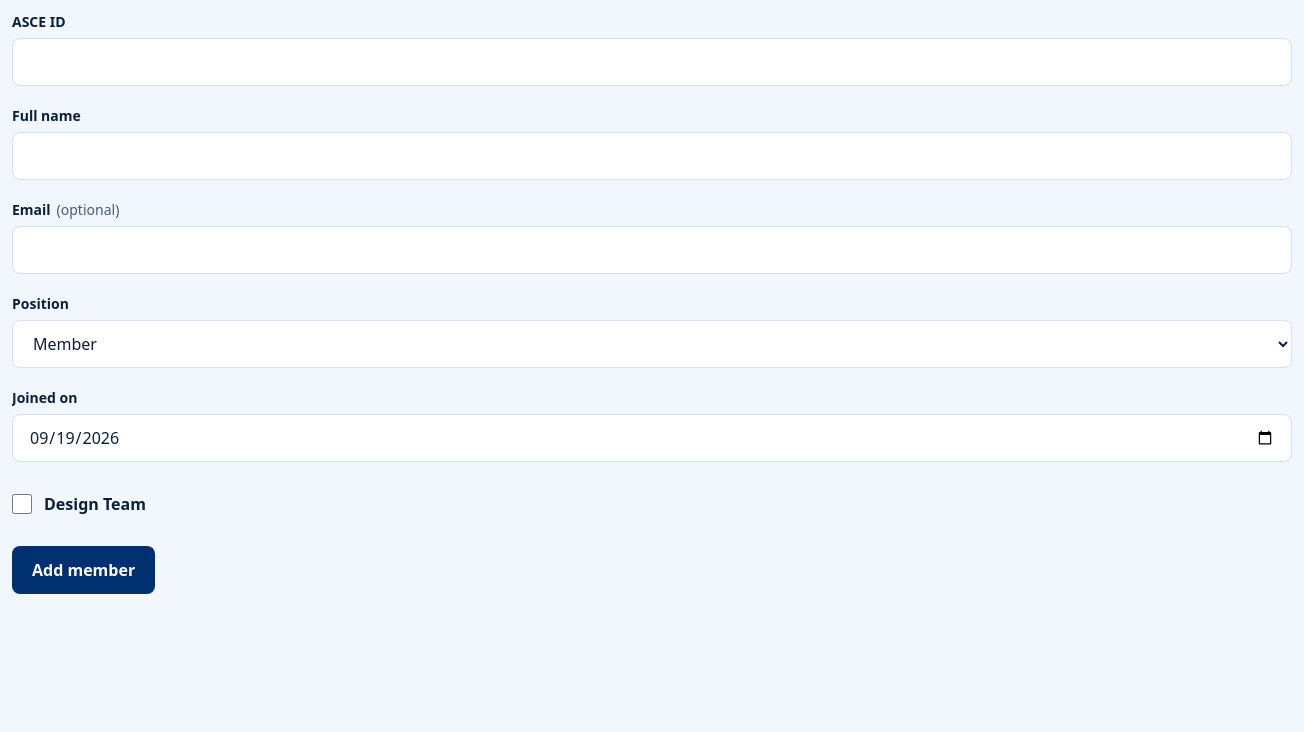
Scenario: MemberForm › un alta fallida NO avisa de creación (se queda en el formulario con el error)
Click the button "Add member" at (84, 570), box [12,546,155,594]
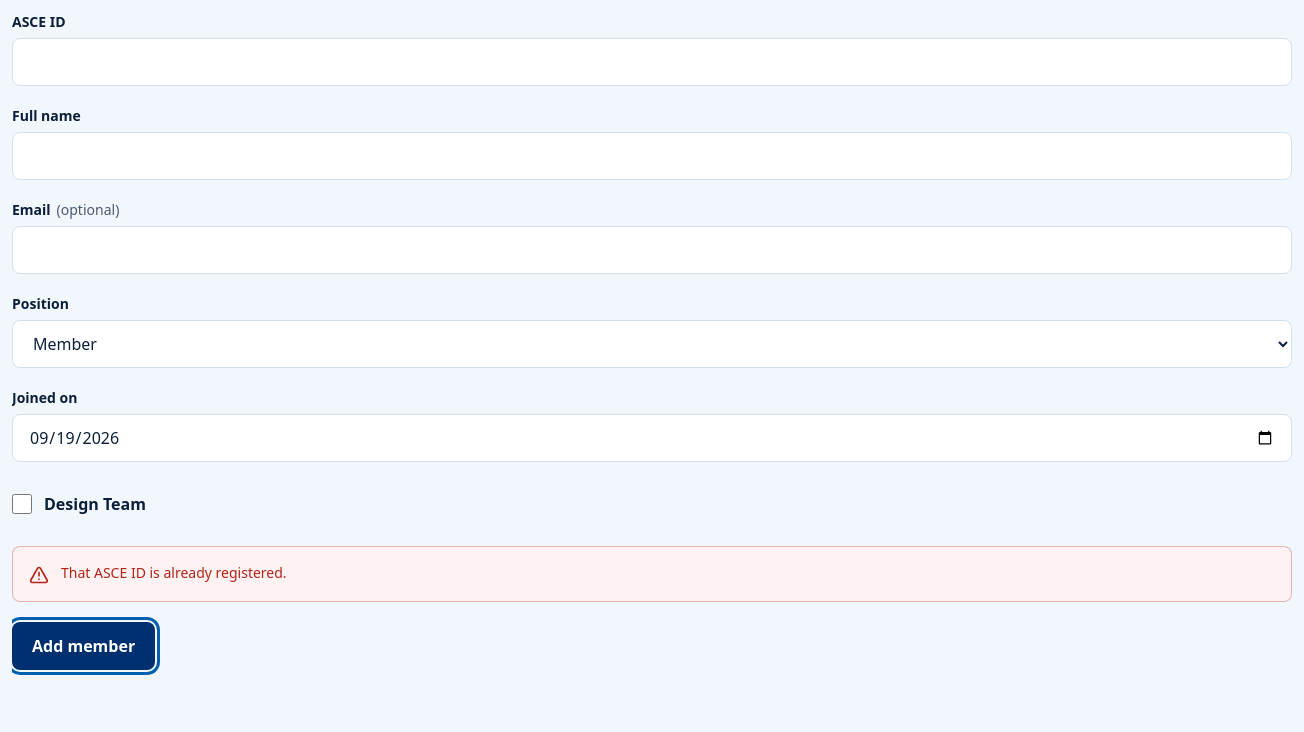
Now the text "That ASCE ID is already registered." is shown, box [61,563,287,583]
